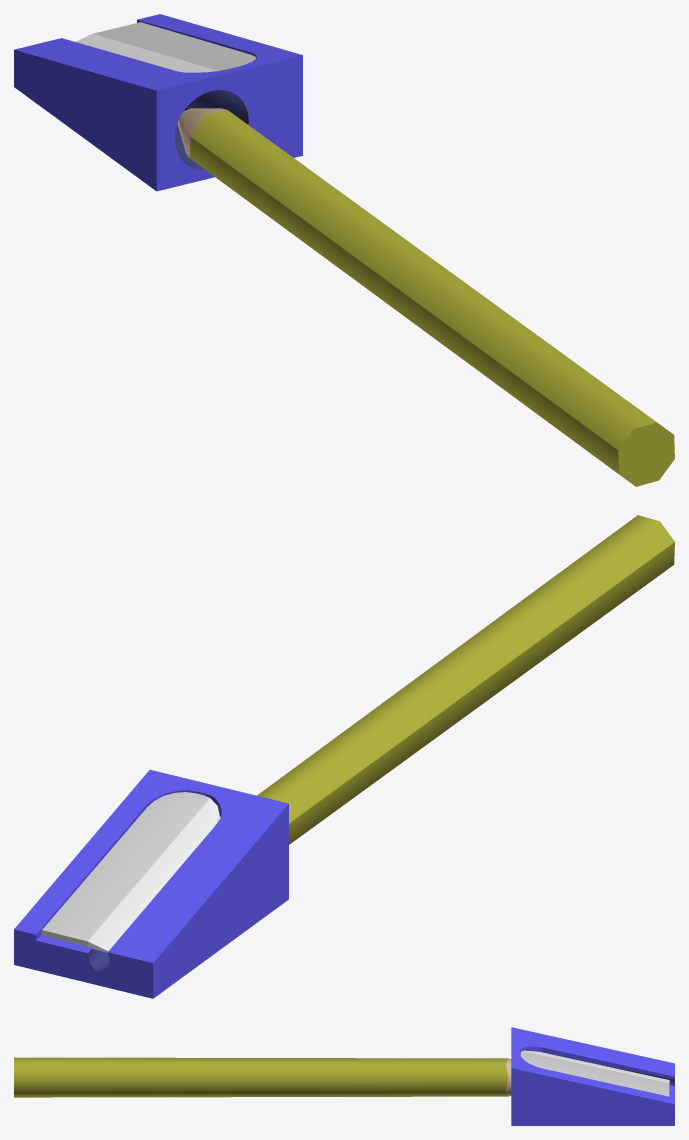
Rendered from 연필깎이와연필합체.fbx.
3 views of the same model, one above another, from view 1: azimuth 30°, elevation 25°; view 2: azimuth 150°, elevation 25°; view 3: azimuth 270°, elevation 25° (orthographic). The views are drawn at different scales.
Visible parts, largest first — view 1: pencil_mint, sharpener_metal; view 2: sharpener_metal, pencil_mint; view 3: pencil_mint, sharpener_metal.
Boxes of the visible parts, x1,y1,x2,y2 form: pencil_mint: (177,108,674,486); sharpener_metal: (14,14,302,191); sharpener_metal: (14,769,288,998); pencil_mint: (257,515,674,844); pencil_mint: (14,1057,511,1097); sharpener_metal: (511,1027,674,1125).
Size of the model in its own units: 222 by 146 by 1514.
